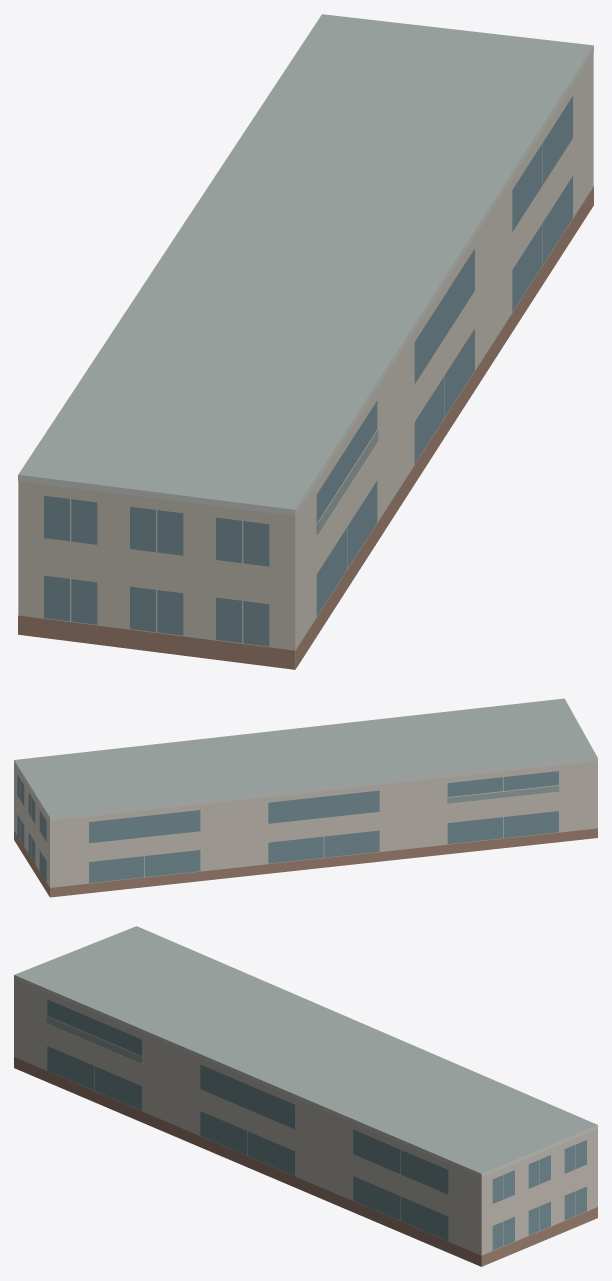
The model's file is survey-upis-32602614.glb.
3 renders of one model, top to bottom at view 1: azimuth 30°, elevation 25°; view 2: azimuth 150°, elevation 25°; view 3: azimuth 270°, elevation 25°, orthographic. The views are drawn at different scales.
Visible parts, largest first — view 1: survey-upis-32602614.tmp; view 2: survey-upis-32602614.tmp; view 3: survey-upis-32602614.tmp.
Boxes of the visible parts, x1,y1,x2,y2 form: survey-upis-32602614.tmp: (18,14,593,669); survey-upis-32602614.tmp: (14,698,597,897); survey-upis-32602614.tmp: (14,926,597,1266).
Size of the model in its own units: 34.81 by 6.1 by 34.67.
